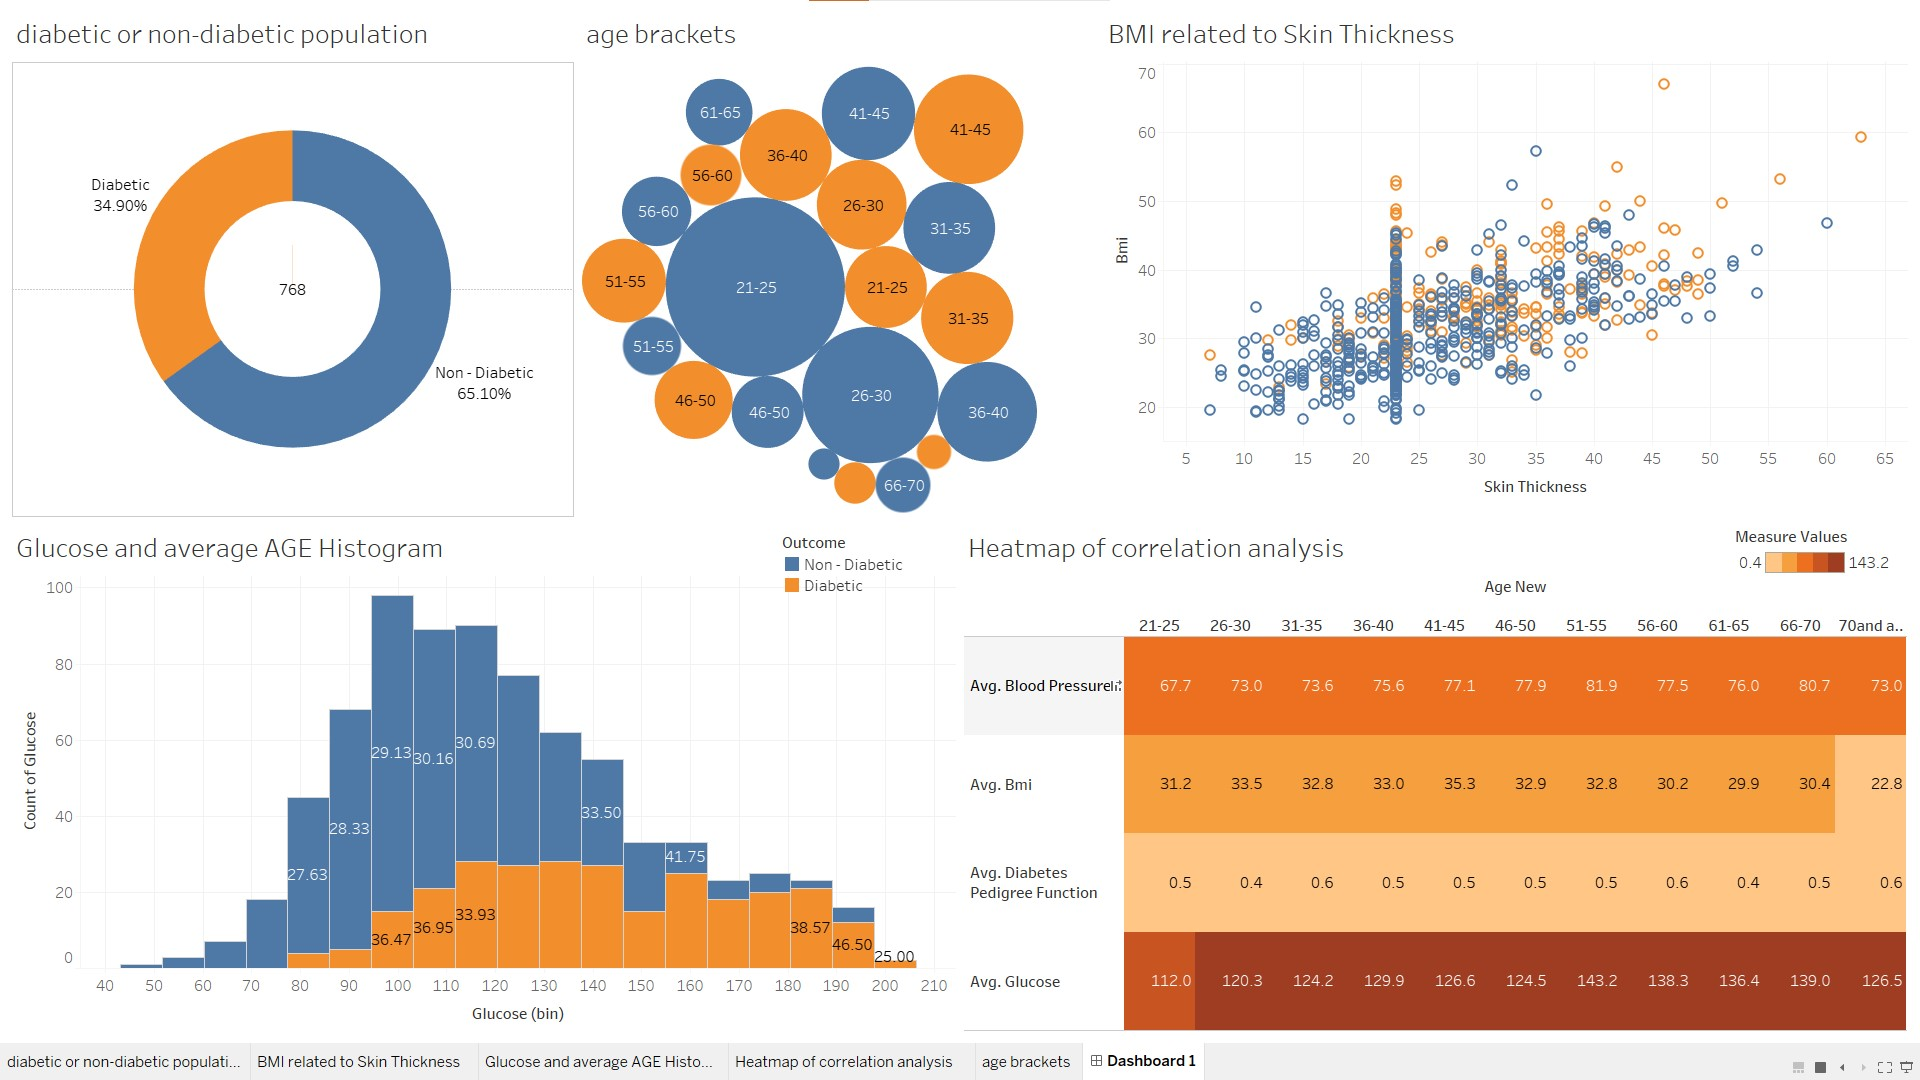

The dashboard page shown, as its layout file describes it:
{"tool":"tableau","page":{"name":"Dashboard 1","canvas":[1000,1000],"units":"permille","ordinal":0},"visuals":[{"type":"worksheet","title":"diabetic or non-diabetic population","mark":"Pie","rows":["pregnancies","pregnancies"],"box":[4.7,9.3,296.3,490.7]},{"type":"worksheet","title":"age brackets","mark":"Circle","box":[301,9.3,271.6,490.7]},{"type":"worksheet","title":"BMI related to Skin Thickness","mark":"Automatic","rows":["bmi"],"cols":["skin_thickness"],"box":[572.6,9.3,422.7,490.7]},{"type":"worksheet","title":"Glucose and average AGE Histogram","mark":"Automatic","rows":["glucose"],"cols":["Glucose (bin)"],"box":[4.7,500,495.3,490.7]},{"type":"worksheet","title":"Heatmap of correlation analysis ","mark":"Automatic","box":[500,500,495.3,490.7]},{"type":"legend","title":"Heatmap of correlation analysis ","param":"[federated.0aaa7yx19ybcb81etz2pe03mu1ig].[Multiple Values]","box":[903.8,504.1,82.6,70.9]},{"type":"legend","title":"diabetic or non-diabetic population","param":"[federated.0aaa7yx19ybcb81etz2pe03mu1ig].[none:outcome:ok]","box":[407.3,509.9,84.4,74.3]}]}

Visuals, with their boxes on the dashboard's canvas, which has no fixed pixel size, in thousandths of its width and height (x1, y1, x2, y2). These are canvas units, not pixel positions in the 1920x1080 screenshot, which may show the page scaled, cropped or inside an application window:
"diabetic or non-diabetic population" worksheet (Pie marks): <box>5,9,301,500</box>
"age brackets" worksheet (Circle marks): <box>301,9,573,500</box>
"BMI related to Skin Thickness" worksheet: <box>573,9,995,500</box>
"Glucose and average AGE Histogram" worksheet: <box>5,500,500,991</box>
"Heatmap of correlation analysis " worksheet: <box>500,500,995,991</box>
"Heatmap of correlation analysis " legend: <box>904,504,986,575</box>
"diabetic or non-diabetic population" legend: <box>407,510,492,584</box>
